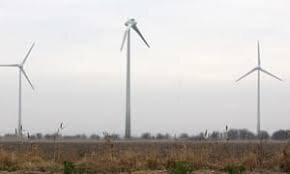faulty: (116, 12, 153, 74)
